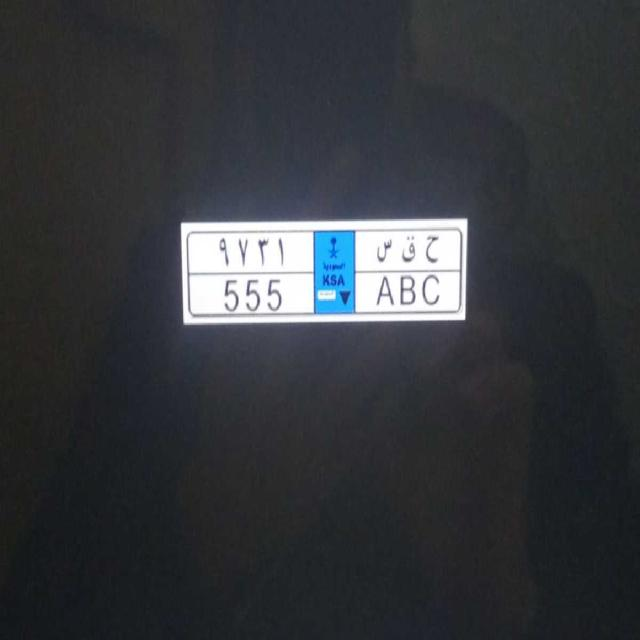license_plate: (198, 272, 452, 317)
